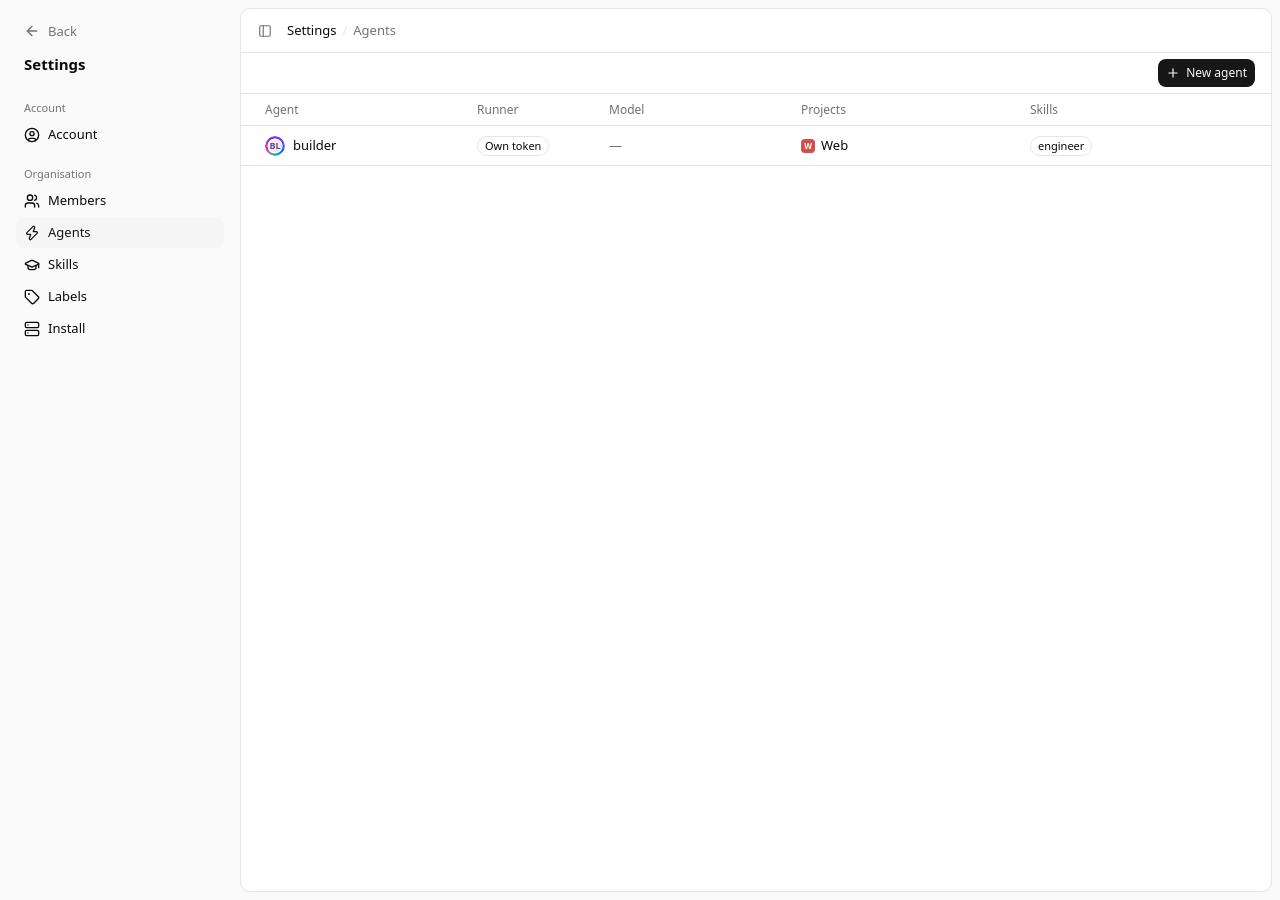
it: Settings › Agents › New agent is New Member with the kind fixed: no Kind, no Email
The width and height of the screenshot is (1280, 900).
Step 1. Click the button "New agent" → [1207, 73], box x1=1158 y1=59 x2=1255 y2=87
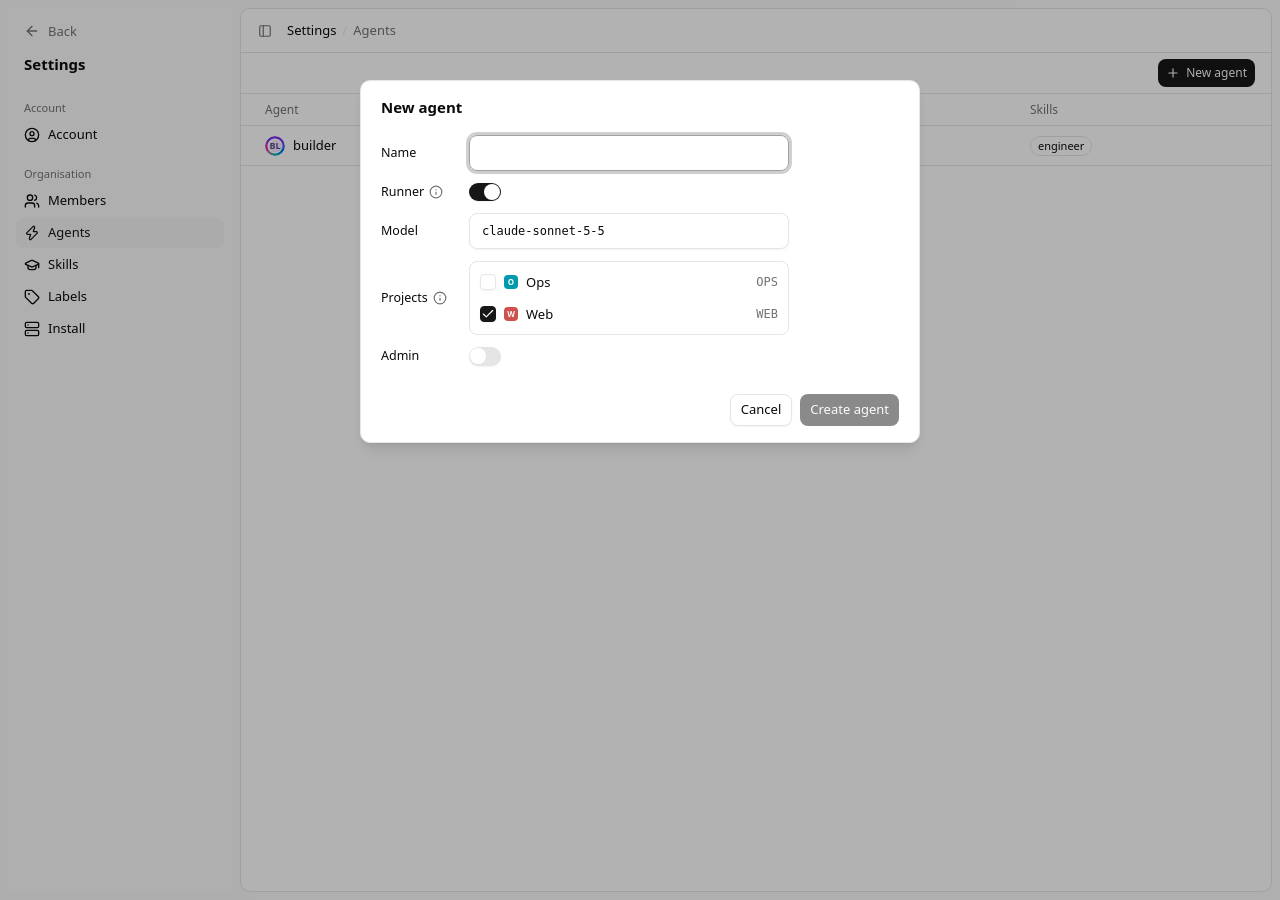
Check: the switch named "Run with the Runner" is checked, box x1=469 y1=183 x2=501 y2=201
Check: the button "Create agent" is disabled, box x1=800 y1=394 x2=899 y2=426
